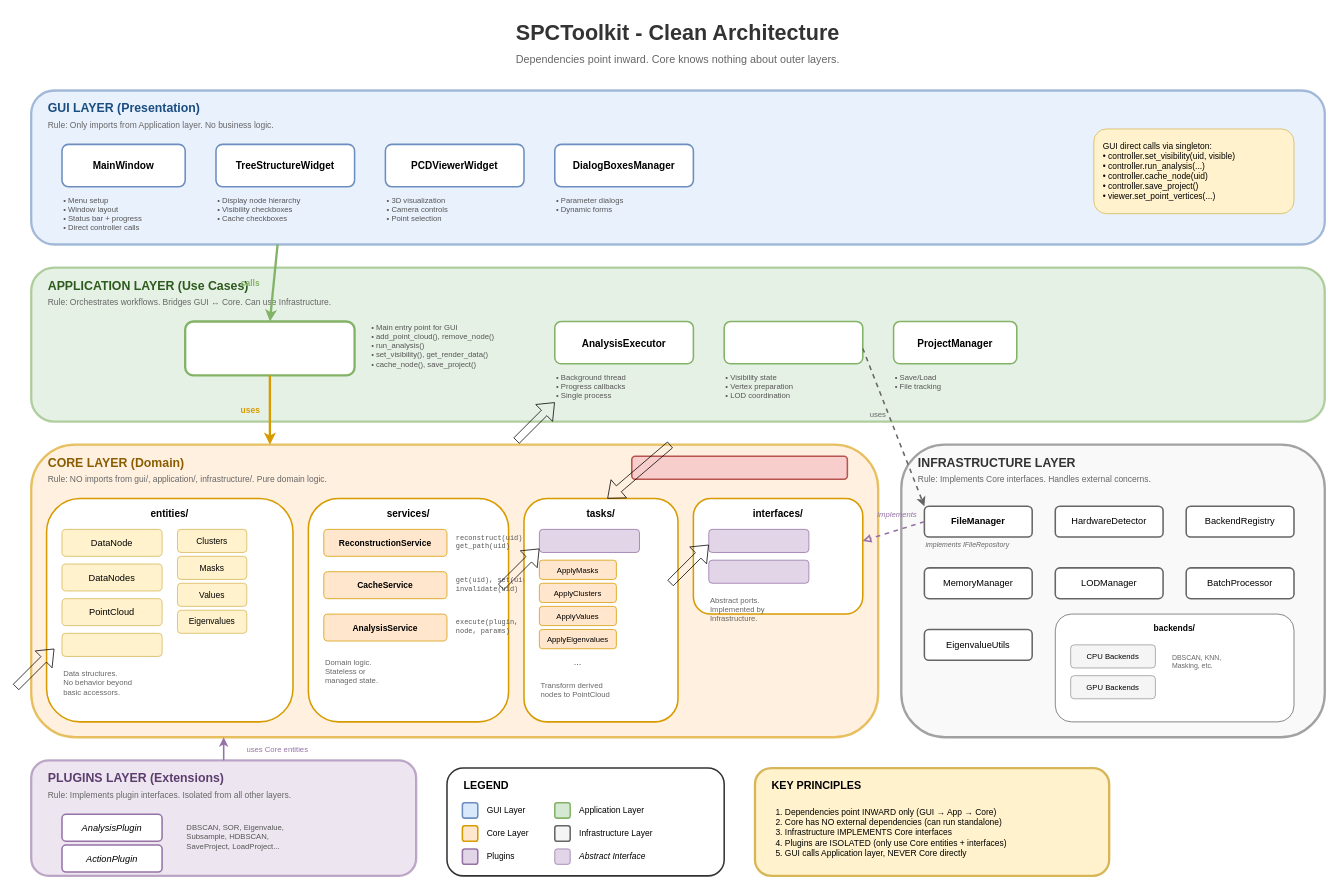
This 1340x890 diagram has some shape labels left out. Here are the shapes that lost their labels. From the top down, the centre of each, then its label:
At [269,348]: "ApplicationController".
At [793,342]: "RenderingCoordinator".
At [739,467]: "⚠️ CRITICAL: Core can run without GUI".
At [589,540]: "BaseTask (abstract)".
At [758,540]: "IFileRepository".
At [758,571]: "IAnalysisPlugin".
At [111,644]: "ClassReference".
